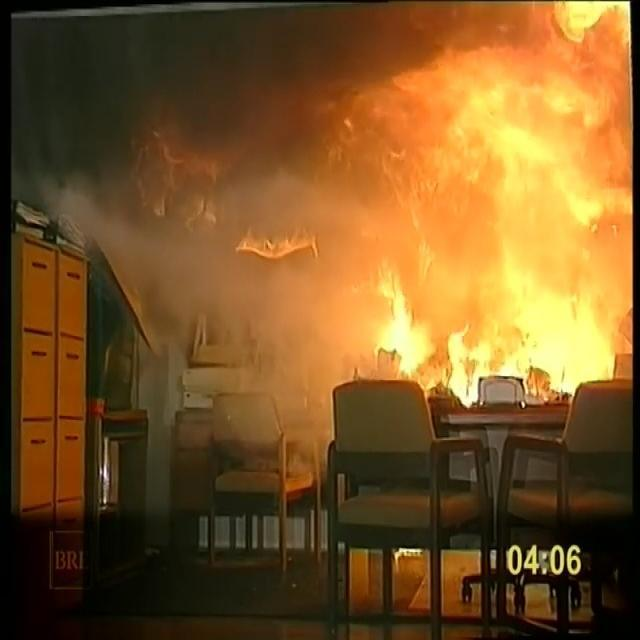Fire: (270, 0, 638, 407)
